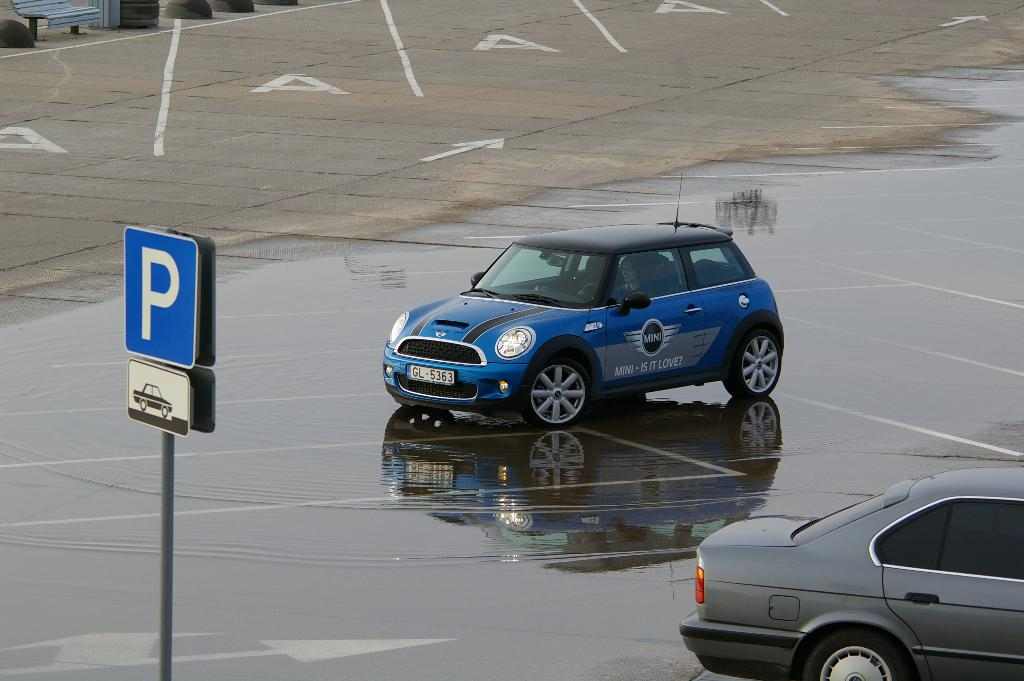car: (368, 211, 791, 465), (670, 450, 1024, 681)
